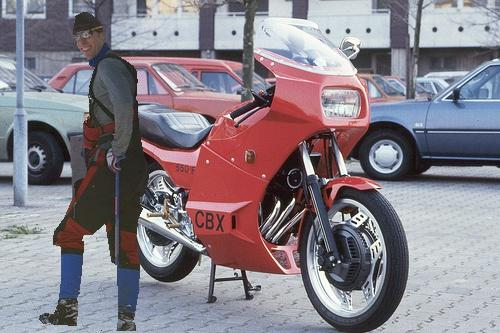tampered: (40, 13, 149, 331)
